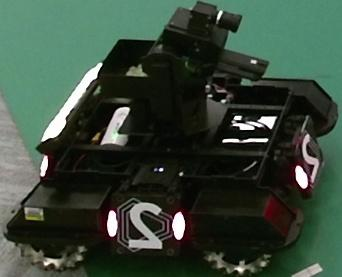armor_2: (107, 210, 185, 240)
light: (42, 61, 101, 142)
